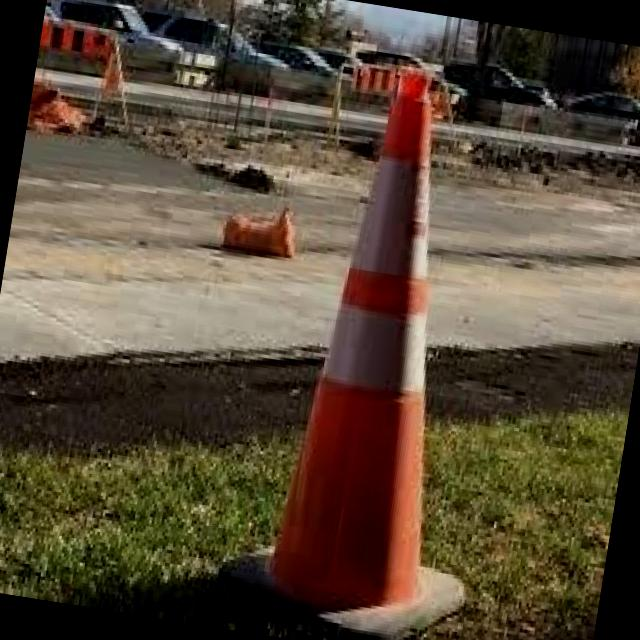Cone: (210, 49, 546, 640)
